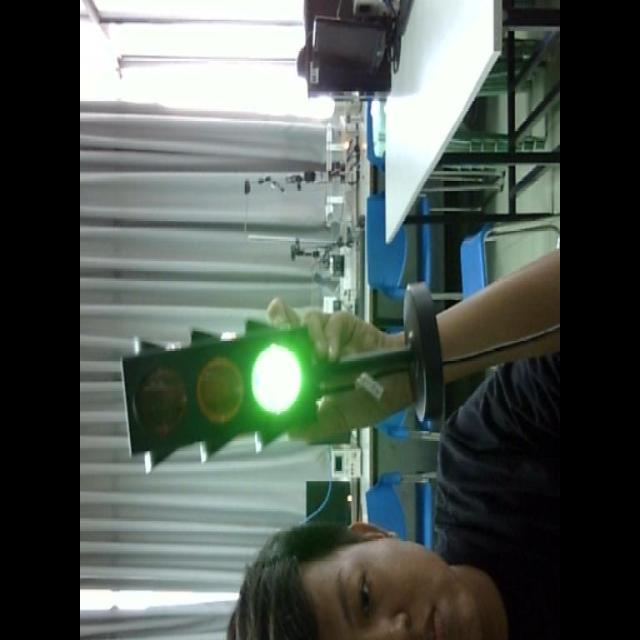green light: (249, 334, 308, 418)
